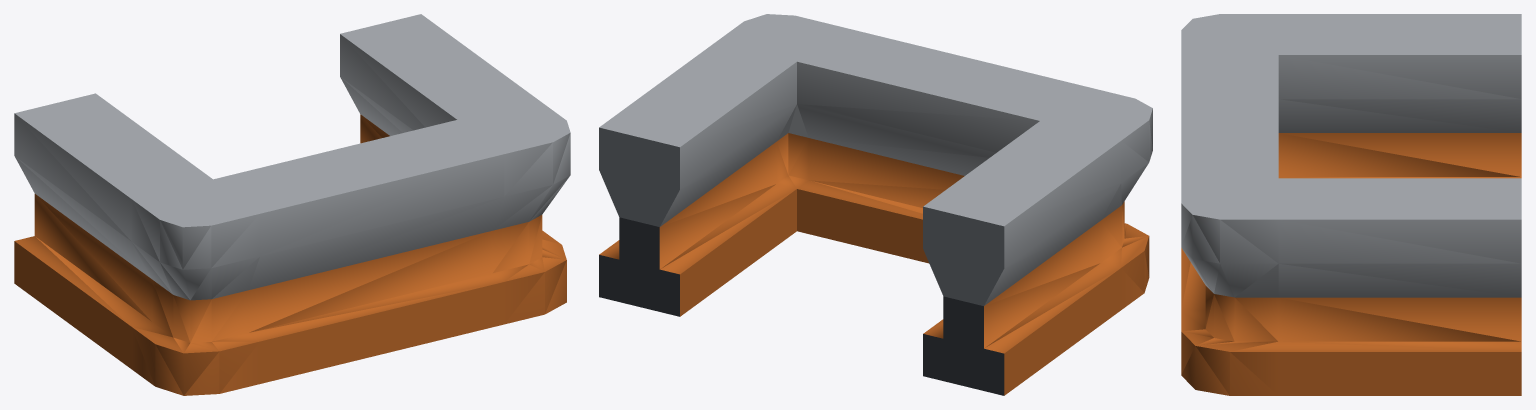
The model's file is Kit_balcony-rail.fbx.
3 renders of one model, left to right at view 1: azimuth 30°, elevation 25°; view 2: azimuth 150°, elevation 25°; view 3: azimuth 270°, elevation 25°, orthographic. The views are drawn at different scales.
Visible parts, largest first — view 1: Kit_balcony-rail; view 2: Kit_balcony-rail; view 3: Kit_balcony-rail.
Part boxes in pixels (left/top/right/bottom): Kit_balcony-rail: left=14, top=14, right=570, bottom=395; Kit_balcony-rail: left=599, top=14, right=1152, bottom=395; Kit_balcony-rail: left=1181, top=14, right=1521, bottom=395.
Bounding box in the file's own units: 1 × 0.4 × 0.7.
